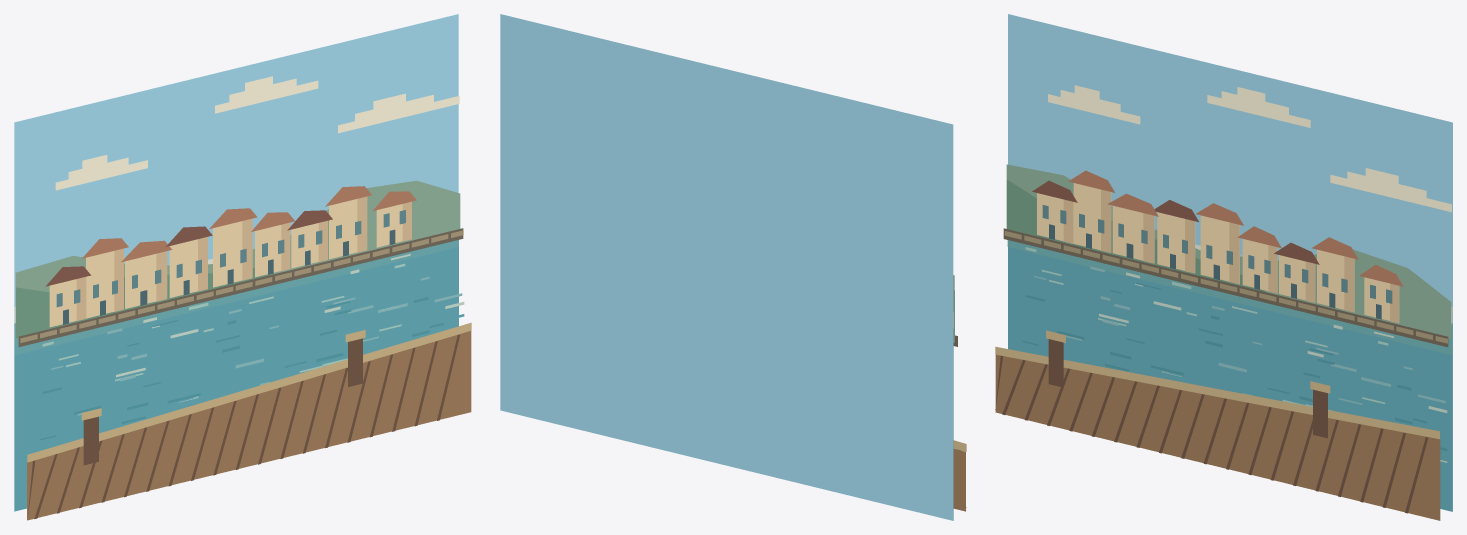
Rendered from window-harbor-quay.glb.
The picture shows the model from 3 angles, left to right: view 1: azimuth 30°, elevation 25°; view 2: azimuth 150°, elevation 25°; view 3: azimuth 330°, elevation 25°; orthographic projection.
Parts seen in each view (by area): view 1: Sky and water.001, Near oak boardwalk.001, Small limestone harbor houses.001, Distant coast.001, Quay stones.001, Stepped seaside clouds.001, Low terracotta rooftops.001, Short sunlit ripples.001, Painted shutters.001, Mooring posts.001; view 2: Sky and water.001, Near oak boardwalk.001; view 3: Sky and water.001, Near oak boardwalk.001, Small limestone harbor houses.001, Distant coast.001, Quay stones.001, Stepped seaside clouds.001, Low terracotta rooftops.001, Short sunlit ripples.001, Painted shutters.001, Mooring posts.001.
Part boxes in pixels (box(x1,y1,x2,y2)): Sky and water.001: box(14, 14, 458, 511); Near oak boardwalk.001: box(27, 322, 471, 520); Small limestone harbor houses.001: box(49, 196, 411, 327); Distant coast.001: box(15, 180, 460, 338); Quay stones.001: box(18, 228, 463, 346); Stepped seaside clouds.001: box(55, 76, 459, 190); Low terracotta rooftops.001: box(45, 186, 416, 286); Short sunlit ripples.001: box(30, 254, 464, 440); Painted shutters.001: box(56, 210, 405, 324); Mooring posts.001: box(81, 330, 365, 465); Sky and water.001: box(500, 14, 953, 520); Near oak boardwalk.001: box(953, 440, 966, 511); Sky and water.001: box(1007, 14, 1452, 511); Near oak boardwalk.001: box(995, 346, 1440, 520); Small limestone harbor houses.001: box(1037, 183, 1399, 323); Distant coast.001: box(1006, 164, 1451, 339); Quay stones.001: box(1003, 228, 1448, 347); Stepped seaside clouds.001: box(1048, 85, 1451, 212); Low terracotta rooftops.001: box(1032, 170, 1403, 286); Short sunlit ripples.001: box(1013, 247, 1447, 462); Painted shutters.001: box(1042, 205, 1392, 319); Mooring posts.001: box(1046, 330, 1330, 438).
Bounding box in the file's own units: 3.18 × 2.66 × 0.182.
